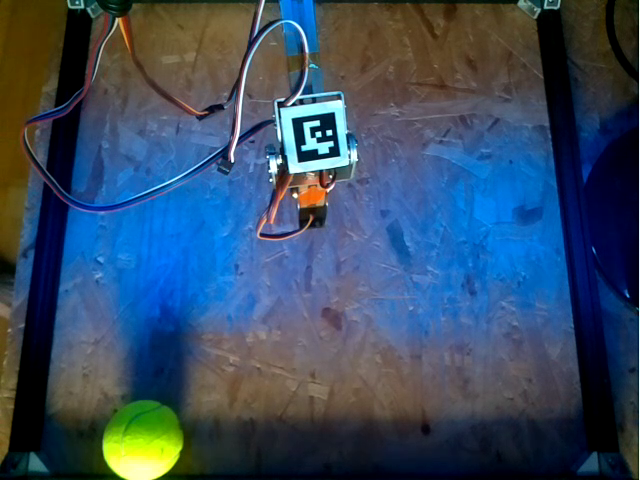tennis_ball: (101, 397, 184, 480)
